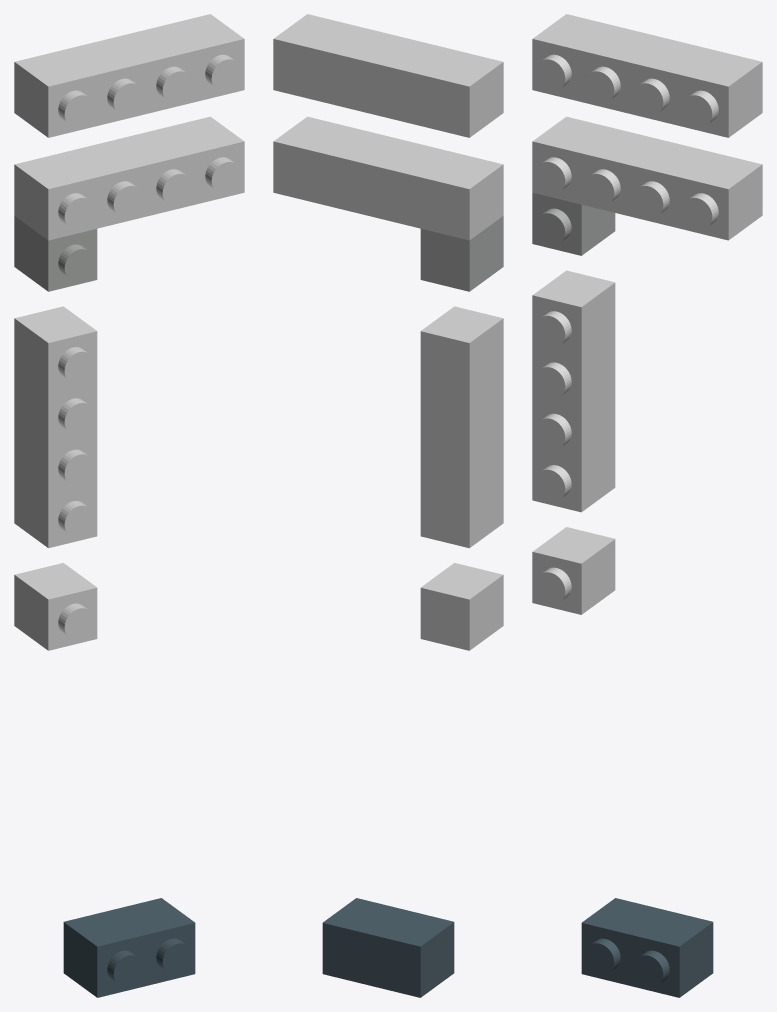
File: current.glb
3 views of the same model, side by side, from view 1: azimuth 30°, elevation 25°; view 2: azimuth 150°, elevation 25°; view 3: azimuth 330°, elevation 25° (orthographic).
Parts seen in each view (by area): view 1: world; view 2: world; view 3: world.
Part boxes in pixels (x1,y1,x2,y2): world: (14,14,244,997); world: (273,14,503,997); world: (532,14,762,997).
Bounding box in the file's own units: 32 × 144 × 11.4.
